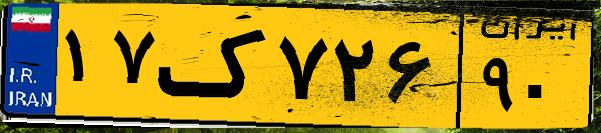0: (525, 38, 570, 115)
1: (57, 26, 110, 100)
2: (330, 28, 385, 110)
6: (385, 28, 445, 110)
7: (270, 28, 330, 110), (110, 28, 158, 98)
9: (475, 38, 525, 113)
ک: (158, 12, 270, 120)
